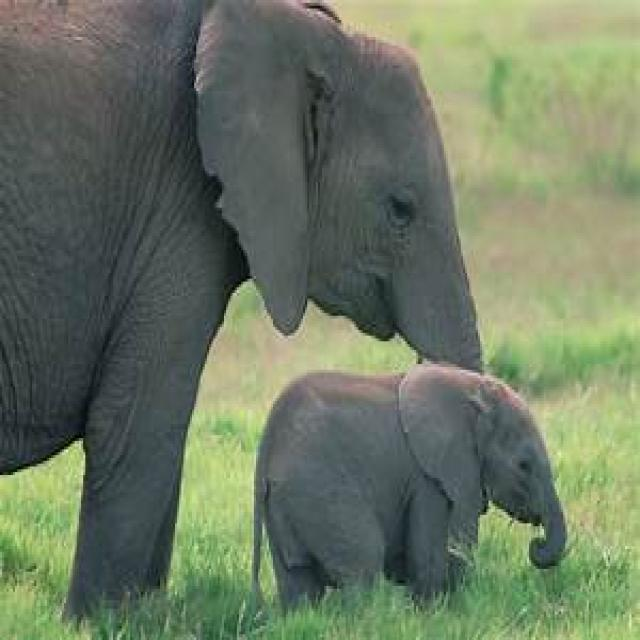elephant: (250, 364, 567, 612)
